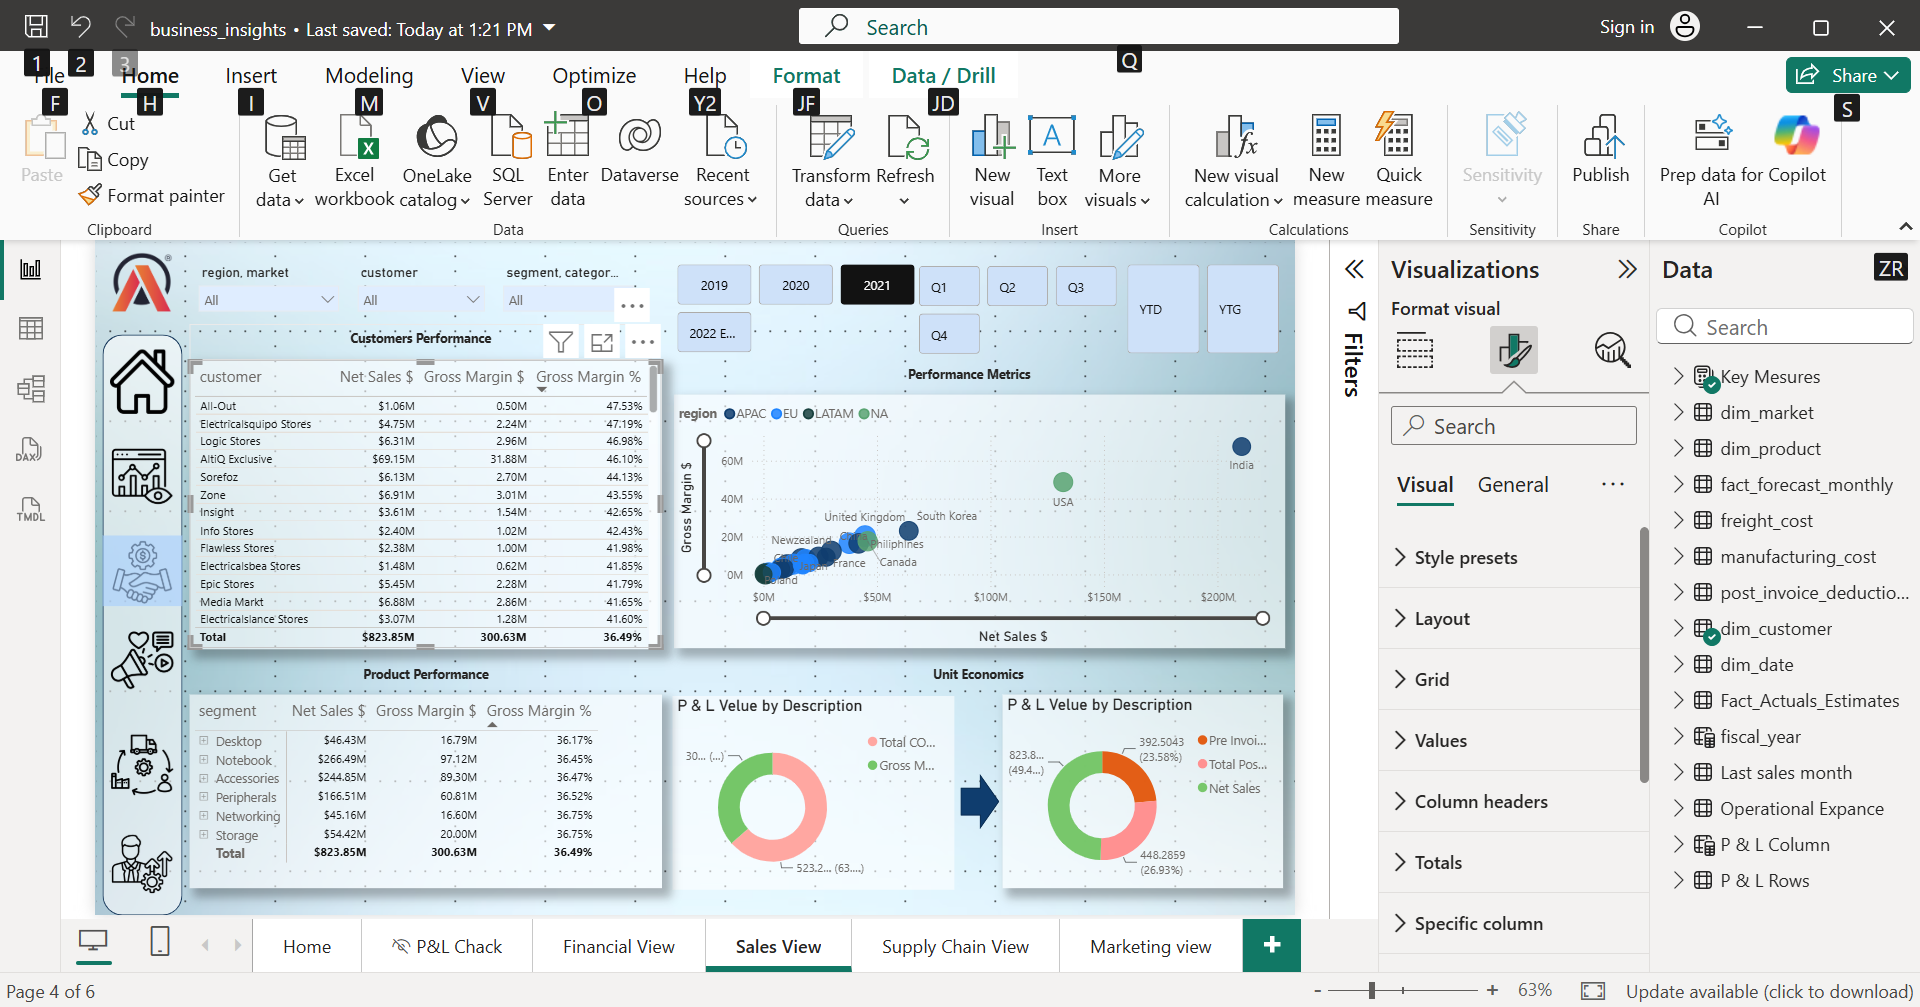

The page's visual inventory and layout, read from the dashboard file:
{"tool":"powerbi","page":{"name":"Sales View","canvas":[1280,720],"ordinal":3},"visuals":[{"type":"advancedSlicerVisual","fields":{"Values":["fiscal_year.FY Desc"]},"box":[615.6,20.7,264,105.6],"z":0},{"type":"advancedSlicerVisual","fields":{"Values":["dim_date.Quarter"]},"box":[873.2,22.3,223.3,105],"z":1000},{"type":"advancedSlicerVisual","fields":{"Values":["dim_date.YTD_YTG"]},"box":[1096,20.8,172.8,105.6],"z":2000},{"type":"slicer","fields":{"Values":[" dim_market.region"," dim_market.market"]},"box":[100.8,20.8,169.6,65.6],"z":3000},{"type":"slicer","fields":{"Values":[" dim_product.segment"," dim_product.category"," dim_product.product"]},"box":[425.6,20.8,158.4,65.6],"z":4000},{"type":"slicer","fields":{"Values":["dim_customer.customer"]},"box":[270.4,20.7,155.2,65.6],"z":5000},{"type":"shape","box":[8.2,100,85.2,619.7],"z":6000},{"type":"image","box":[8.2,13.1,85.2,63.9],"z":7000},{"type":"image","box":[16.4,213.1,68.9,78.7],"z":8000},{"type":"image","box":[16.4,116.4,68.9,68.9],"z":9000},{"type":"image","box":[16.4,411.5,68.9,73.8],"z":10000},{"type":"image","box":[16.4,318,68.9,72.1],"z":11000},{"type":"image","box":[16.4,521.3,68.9,77],"z":12000},{"type":"image","box":[16.4,627.9,68.9,77],"z":13000},{"type":"shape","box":[8,314.9,85.2,75.4],"z":14000},{"type":"tableEx","fields":{"Values":["dim_customer.customer","Key Mesures.Net Sales $","Key Mesures.Gross Margin $","Key Mesures.Gross Margin %"]},"box":[100.2,127.2,504.2,308.6],"z":15000},{"type":"donutChart","fields":{"Y":["Key Mesures.P & L Velue"],"Category":["P & L Rows.Description"]},"box":[968.7,485.1,299,206.8],"z":16000},{"type":"shape","box":[922.6,569.4,41.4,58.9],"z":17000},{"type":"donutChart","fields":{"Y":["Key Mesures.P & L Velue"],"Category":["P & L Rows.Description"]},"box":[615.6,486.7,300.6,206.8],"z":18000},{"type":"pivotTable","fields":{"Rows":[" dim_product.segment"," dim_product.category"," dim_product.product"],"Values":["Key Mesures.Net Sales $","Key Mesures.Gross Margin $","Key Mesures.Gross Margin %"]},"box":[100.2,485.1,504.2,206.8],"z":19000},{"type":"textbox","box":[100.2,89.1,493.1,38.2],"z":20000},{"type":"textbox","box":[100.2,448.6,504.2,38.2],"z":21000},{"type":"textbox","box":[594.9,127.2,674.4,38.2],"z":22000},{"type":"scatterChart","fields":{"Category":[" dim_market.market","dim_customer.customer"],"X":["Key Mesures.Net Sales $"],"Y":["Key Mesures.Gross Margin $"],"Size":["Key Mesures.Gross Margin %"],"Series":[" dim_market.region"]},"box":[617.2,165.4,652.2,270.4],"z":23000},{"type":"textbox","box":[615.6,448.6,652.2,38.2],"z":24000}]}

Visuals, with their boxes on the page's 1280x720 design canvas (x1, y1, x2, y2). These are canvas units, not pixel positions in the 1920x1007 screenshot, which may show the page scaled, cropped or inside an application window:
advancedSlicerVisual - fiscal_year.FY Desc: bbox=(616, 21, 880, 126)
advancedSlicerVisual - dim_date.Quarter: bbox=(873, 22, 1096, 127)
advancedSlicerVisual - dim_date.YTD_YTG: bbox=(1096, 21, 1269, 126)
slicer -  dim_market.region x  dim_market.market: bbox=(101, 21, 270, 86)
slicer -  dim_product.segment x  dim_product.category: bbox=(426, 21, 584, 86)
slicer - dim_customer.customer: bbox=(270, 21, 426, 86)
shape: bbox=(8, 100, 93, 720)
image: bbox=(8, 13, 93, 77)
image: bbox=(16, 213, 85, 292)
image: bbox=(16, 116, 85, 185)
image: bbox=(16, 412, 85, 485)
image: bbox=(16, 318, 85, 390)
image: bbox=(16, 521, 85, 598)
image: bbox=(16, 628, 85, 705)
shape: bbox=(8, 315, 93, 390)
tableEx - dim_customer.customer x Key Mesures.Net Sales $: bbox=(100, 127, 604, 436)
donutChart - Key Mesures.P & L Velue x P & L Rows.Description: bbox=(969, 485, 1268, 692)
shape: bbox=(923, 569, 964, 628)
donutChart - Key Mesures.P & L Velue x P & L Rows.Description: bbox=(616, 487, 916, 694)
pivotTable -  dim_product.segment x  dim_product.category: bbox=(100, 485, 604, 692)
textbox: bbox=(100, 89, 593, 127)
textbox: bbox=(100, 449, 604, 487)
textbox: bbox=(595, 127, 1269, 165)
scatterChart -  dim_market.market x dim_customer.customer: bbox=(617, 165, 1269, 436)
textbox: bbox=(616, 449, 1268, 487)
